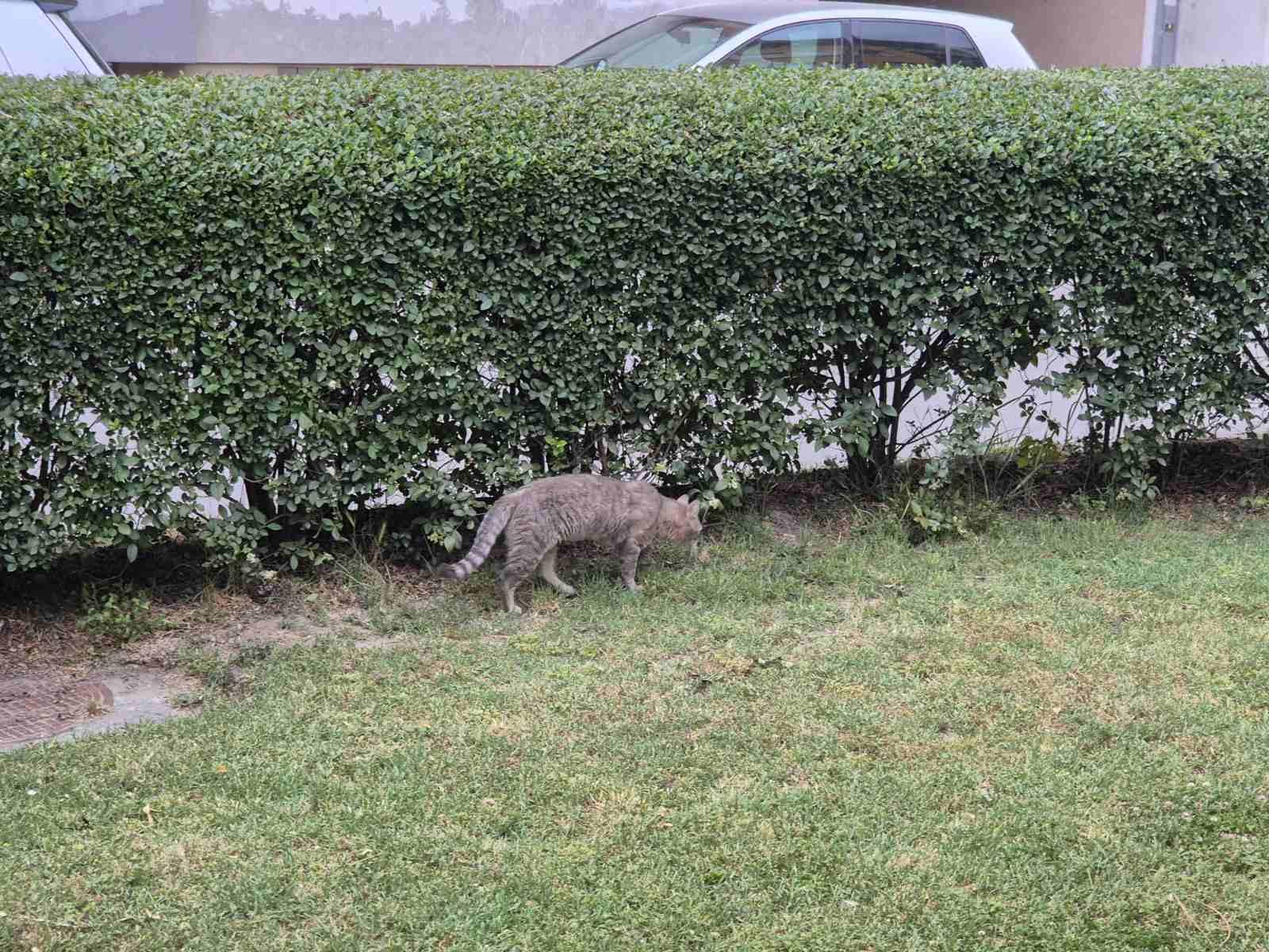macka: (444, 471, 703, 617)
